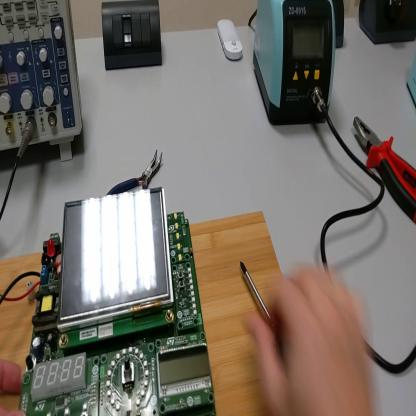hand: (249, 263, 374, 415), (2, 358, 28, 415)
low voltage board: (1, 188, 217, 415)
oscilloscope: (1, 4, 83, 172)
pliers: (354, 114, 416, 227), (107, 150, 165, 198)
screwdriver-: (241, 261, 304, 400)
socket: (359, 2, 416, 46), (333, 3, 346, 51)
welder station: (254, 2, 338, 128), (407, 54, 416, 113)
working area: (2, 208, 287, 414)
